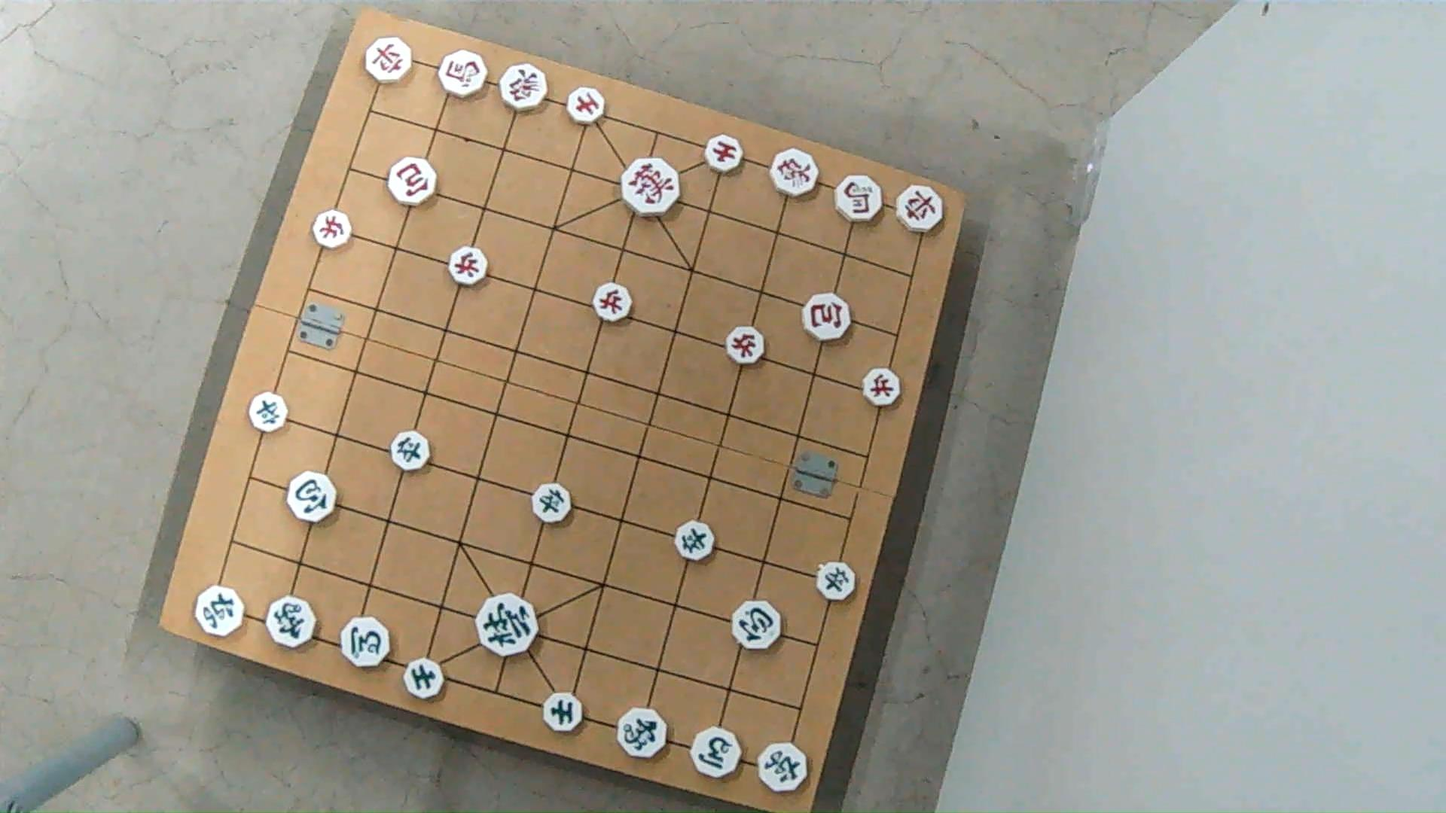cha_green: (758, 741, 809, 796), (197, 586, 247, 635)
cha_red: (898, 182, 944, 235), (361, 37, 413, 81)
jol_green: (531, 484, 575, 522), (812, 562, 856, 600), (388, 432, 432, 470), (674, 524, 717, 562), (246, 393, 287, 431)
jol_red: (593, 285, 634, 323), (448, 249, 490, 286), (863, 367, 904, 404), (724, 330, 766, 366), (309, 212, 352, 247)
ma_green: (338, 620, 390, 669), (691, 729, 741, 775)
ma_red: (437, 50, 487, 99), (832, 178, 883, 222)
po_green: (288, 473, 340, 522), (731, 604, 782, 650)
po_red: (801, 295, 850, 341), (386, 160, 436, 205)
sa_green: (403, 659, 444, 699), (542, 695, 584, 733)
sa_red: (702, 136, 743, 173), (566, 87, 609, 122)
sang_green: (264, 595, 316, 650), (617, 707, 667, 760)
sang_red: (502, 65, 553, 111), (769, 150, 818, 193)
wang_green: (475, 597, 539, 656)
wang_red: (621, 159, 681, 215)
